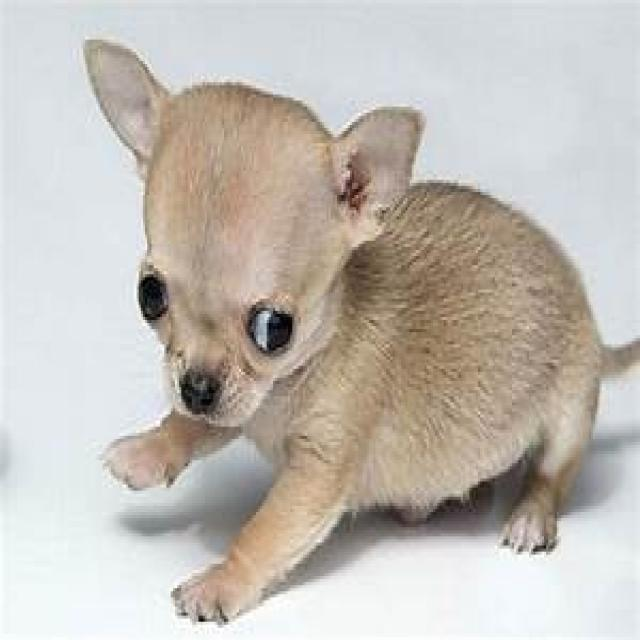dog: (83, 40, 640, 625)
